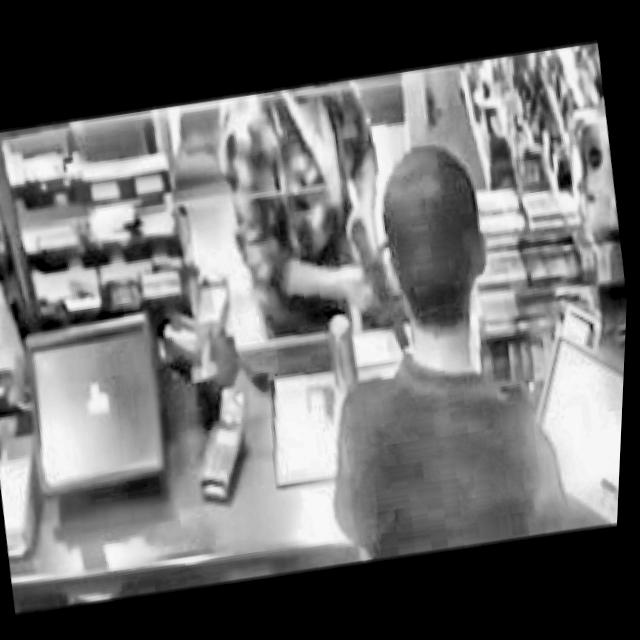robbery: (193, 76, 426, 383)
